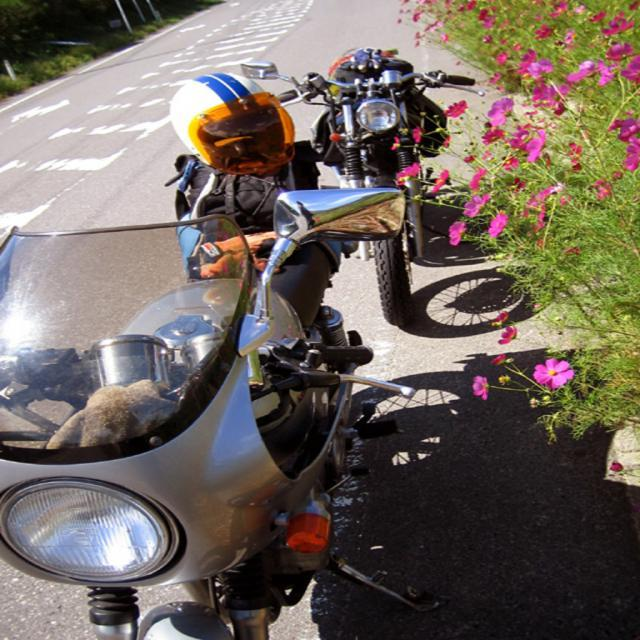bus: (27, 138, 425, 640), (236, 41, 492, 335)
